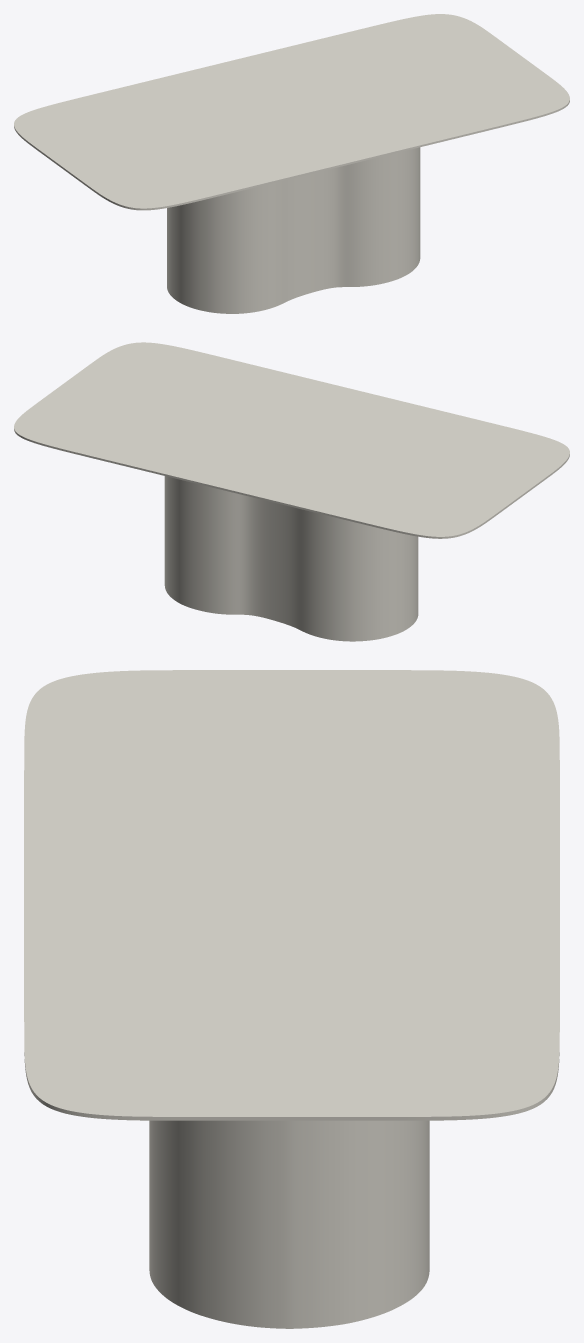
The model's file is pale_softrecta_facet_riverwave.glb.
3 views of the same model, one above another, from view 1: azimuth 30°, elevation 25°; view 2: azimuth 150°, elevation 25°; view 3: azimuth 270°, elevation 25° (orthographic). The views are drawn at different scales.
Visible parts, largest first — view 1: facet_softrecta, riverwave; view 2: facet_softrecta, riverwave; view 3: facet_softrecta, riverwave.
Part boxes in pixels (x1,y1,x2,y2): facet_softrecta: [14, 14, 569, 210]; riverwave: [167, 147, 420, 313]; facet_softrecta: [14, 342, 569, 538]; riverwave: [164, 476, 418, 641]; facet_softrecta: [24, 670, 559, 1120]; riverwave: [149, 1120, 429, 1328].
Size of the model in its own units: 7.5 by 2.5 by 3.8.
Materials: 1 (1 with a texture image).
